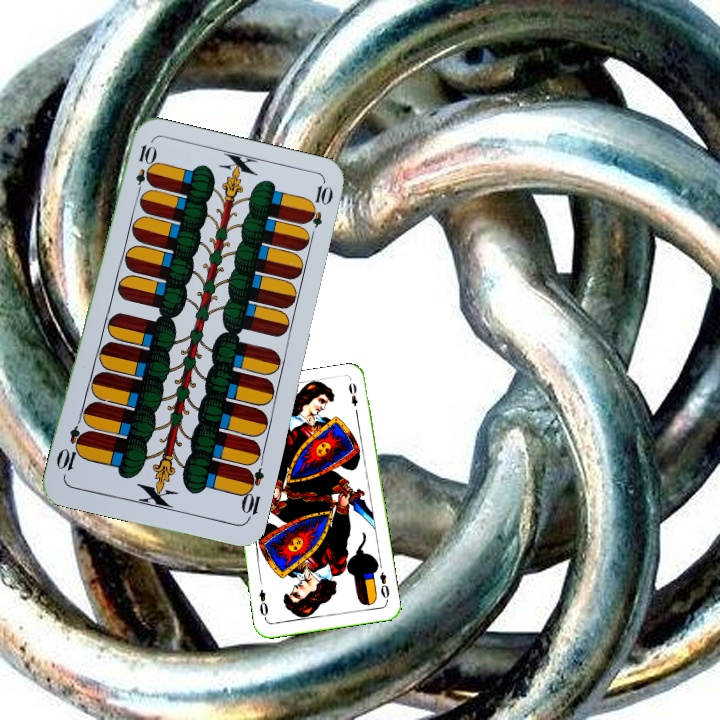E10: (237, 464, 267, 523), (131, 141, 156, 200)
EO: (375, 568, 392, 601)
